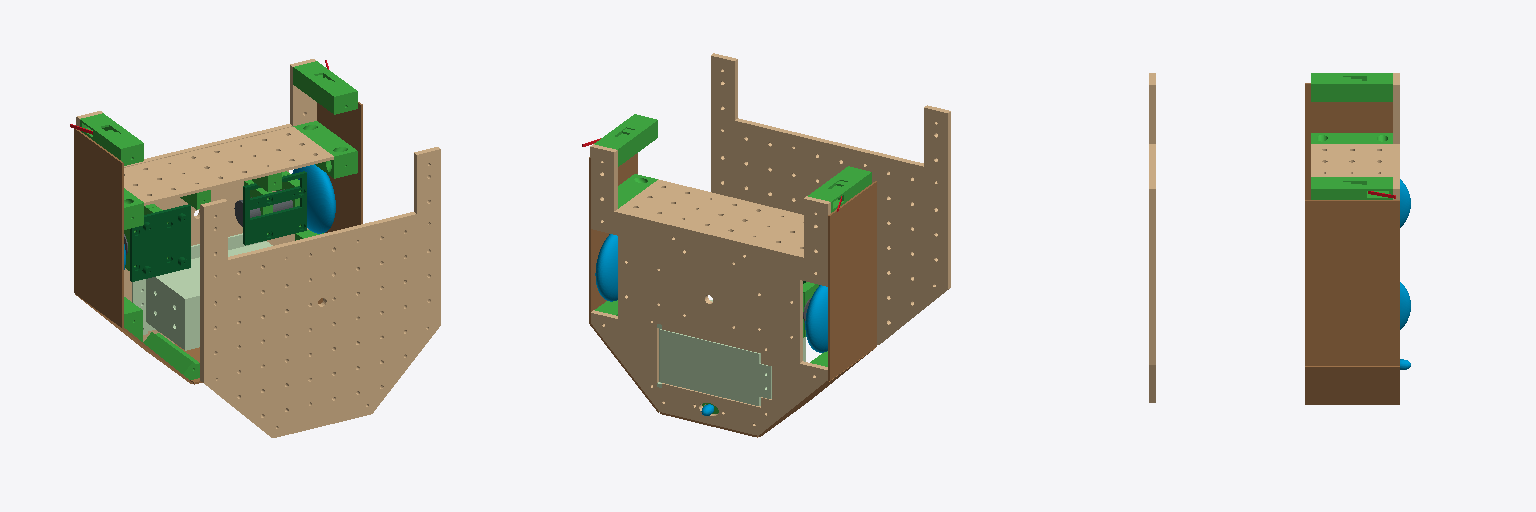
Rendered from tinker.obj.
The picture shows the model from 3 angles: view 1: azimuth 30°, elevation 25°; view 2: azimuth 150°, elevation 25°; view 3: azimuth 270°, elevation 25°; orthographic projection.
Visible parts, largest first — view 1: obj_0; view 2: obj_0; view 3: obj_0.
Boxes of the visible parts, <box> form: obj_0: <box>70,59,440,437</box>; obj_0: <box>582,53,950,437</box>; obj_0: <box>1149,73,1410,404</box>.
Size of the model in its own units: 270 by 253 by 239.